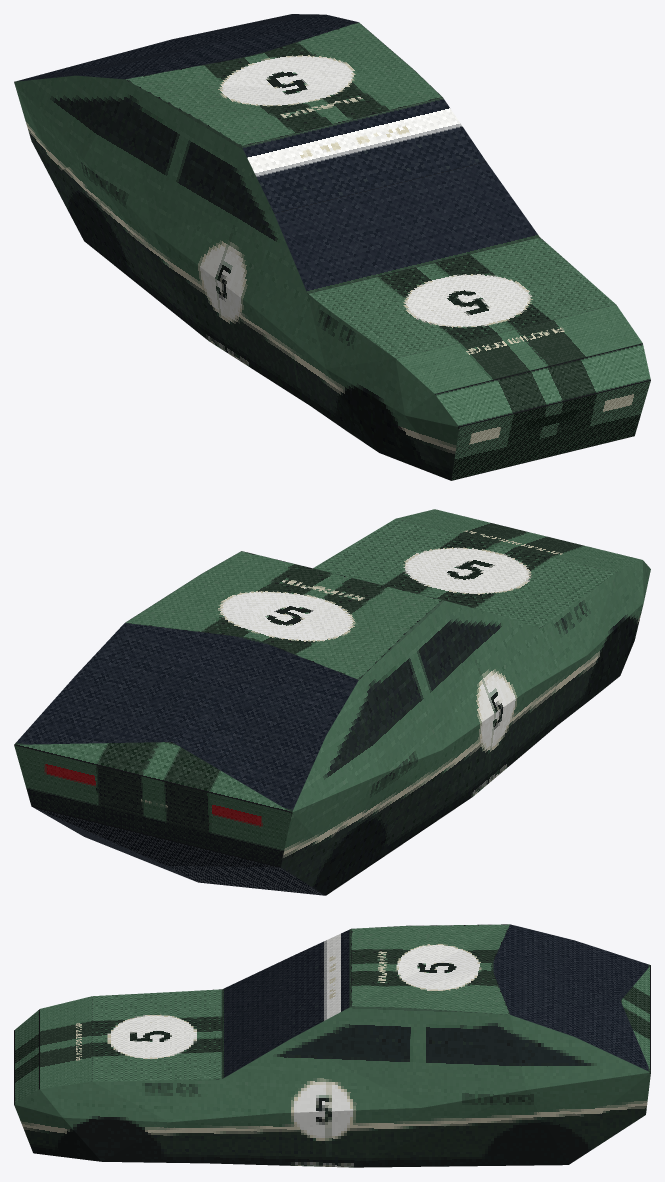
Rendered from green5.gltf.
3 renders of one model, top to bottom at view 1: azimuth 30°, elevation 25°; view 2: azimuth 150°, elevation 25°; view 3: azimuth 270°, elevation 25°, orthographic. The views are drawn at different scales.
Bounding box in the file's own units: 0.6126 × 0.4016 × 1.44.
Materials: 1 (1 with a texture image).
